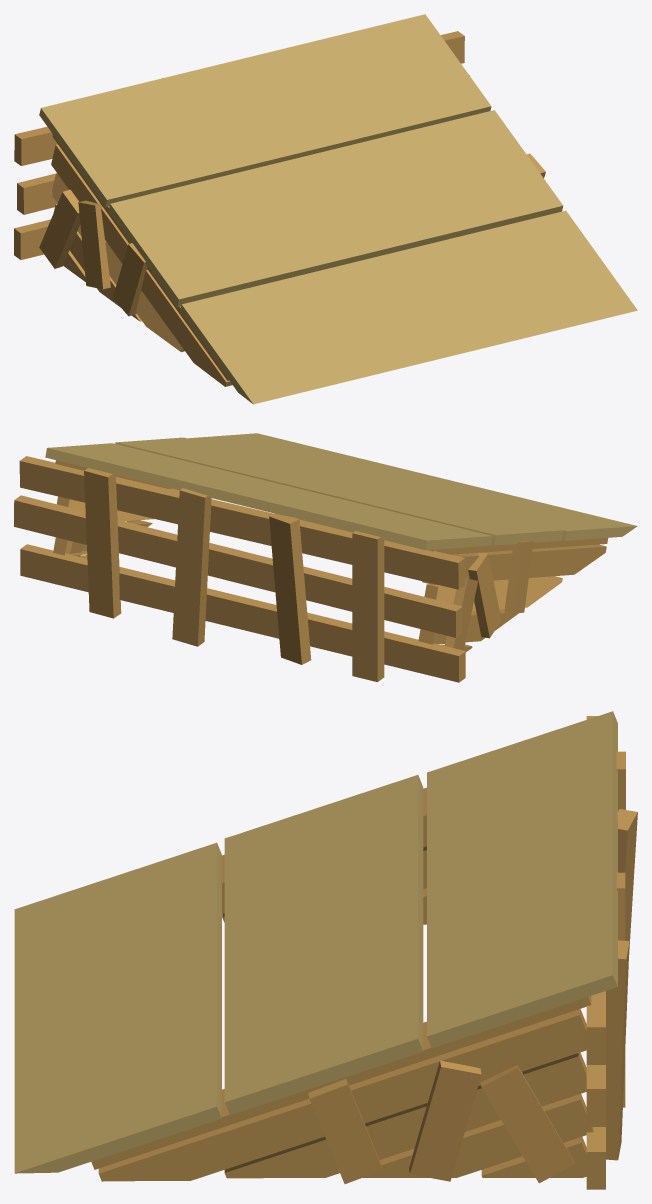
File: ramp.glb
3 views of the same model, one above another, from view 1: azimuth 30°, elevation 25°; view 2: azimuth 150°, elevation 25°; view 3: azimuth 270°, elevation 25° (orthographic). The views are drawn at different scales.
Parts seen in each view (by area): view 1: Mid-Plank, Bot-Plank, Planks, LeftSide, Cube.023, Side-support-left, Cube.005, Cube.015, Cube.024, Cube.004, BackSide, TopSupport (+1 smaller); view 2: Planks, Cube.004, BackSide, Cube.005, Mid-Plank, Bot-Plank, Cube.006, Cube.008, Cube.009, Cube.007, LeftSide, Cube.023 (+7 smaller); view 3: Bot-Plank, Mid-Plank, Planks, RightSide, Cube.011, Cube.020, Cube.026, Side-support-right, Cube.012, Cube.021, Cube.009, Cube.007 (+5 smaller).
Part boxes in pixels (box(x1,y1,x2,y2)): Mid-Plank: box(108, 110, 563, 307); Bot-Plank: box(180, 210, 637, 404); Planks: box(39, 14, 491, 207); LeftSide: box(51, 144, 232, 386); Cube.023: box(78, 200, 110, 289); Side-support-left: box(39, 189, 80, 268); Cube.005: box(14, 31, 464, 165); Cube.015: box(52, 173, 184, 351); Cube.024: box(113, 243, 147, 316); Cube.004: box(17, 75, 469, 214); BackSide: box(14, 219, 50, 259); TopSupport: box(52, 134, 228, 380); Planks: box(45, 443, 492, 550); Cube.004: box(14, 495, 462, 637); BackSide: box(20, 544, 465, 682); Cube.005: box(19, 456, 465, 589); Mid-Plank: box(115, 437, 563, 545); Bot-Plank: box(188, 433, 637, 540); Cube.006: box(172, 488, 211, 646); Cube.008: box(352, 531, 384, 681); Cube.009: box(84, 468, 121, 618); Cube.007: box(269, 513, 311, 664); LeftSide: box(422, 544, 606, 584); Cube.023: box(468, 552, 501, 638); Bot-Plank: box(14, 842, 221, 1173); Mid-Plank: box(224, 775, 423, 1115); Planks: box(427, 711, 617, 1048); RightSide: box(98, 1009, 586, 1181); Cube.011: box(224, 1052, 586, 1178); Cube.020: box(409, 1060, 481, 1181); Cube.026: box(91, 996, 591, 1169); Side-support-right: box(480, 1065, 575, 1183); Cube.012: box(362, 1094, 593, 1177); Cube.021: box(308, 1079, 382, 1183); Cube.009: box(606, 940, 629, 1160); Cube.007: box(617, 809, 637, 954).
Size of the model in its own units: 9.78 by 3.32 by 8.35.
